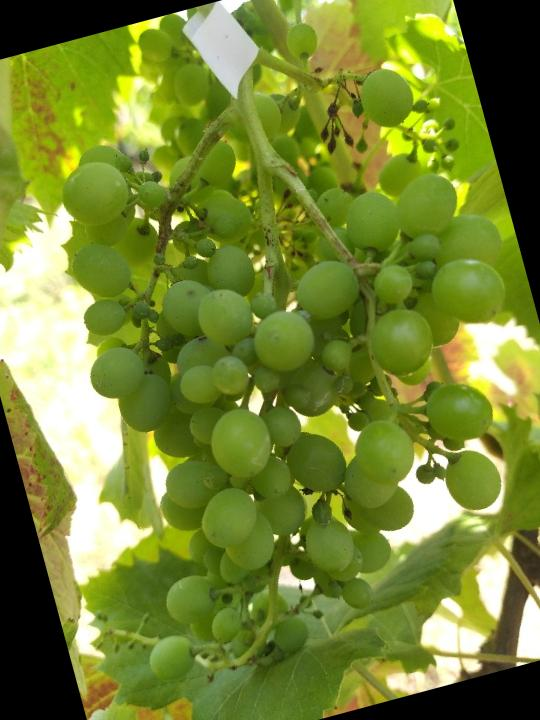grape: (0, 0, 540, 710)
